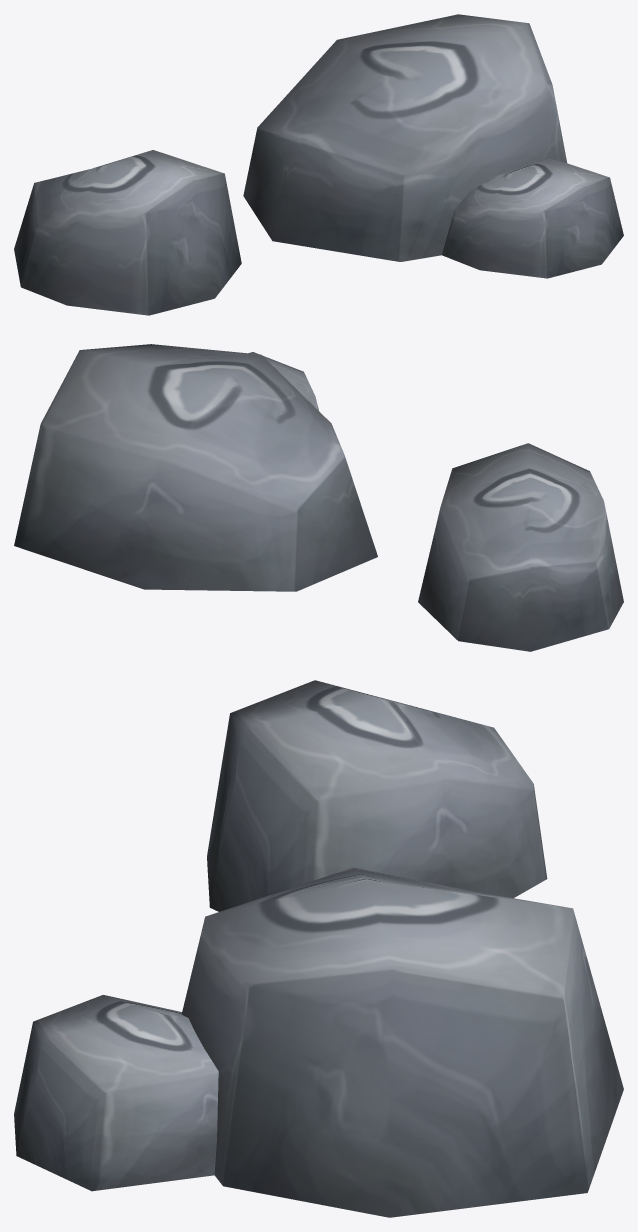
Rendered from rock_03.fbx.
The picture shows the model from 3 angles, top to bottom: view 1: azimuth 30°, elevation 25°; view 2: azimuth 150°, elevation 25°; view 3: azimuth 270°, elevation 25°; orthographic projection. The views are drawn at different scales.
Parts seen in each view (by area): view 1: rock_03; view 2: rock_03; view 3: rock_03.
Part boxes in pixels (<box>): rock_03: <box>14,14,623,315</box>; rock_03: <box>14,344,623,651</box>; rock_03: <box>14,680,623,1217</box>.
Bounding box in the file's own units: 5.93 × 1.49 × 3.71.
